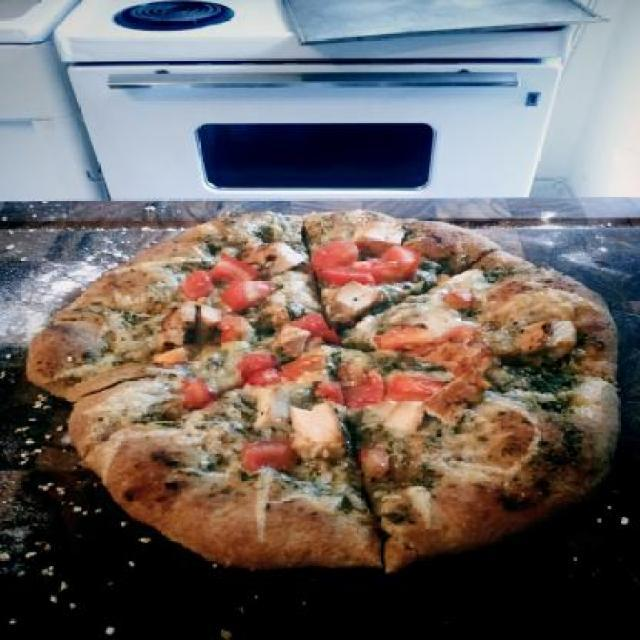Pizza: (19, 194, 638, 578)
